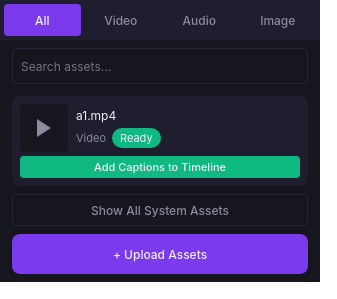
Test case: AssetBrowserPanel — scope toggle › clicking toggle switches label to "Show only project assets"
This screenshot has width=337, height=299.
Click the button with test id "scope-toggle" at (160, 210), box x1=12 y1=194 x2=308 y2=226
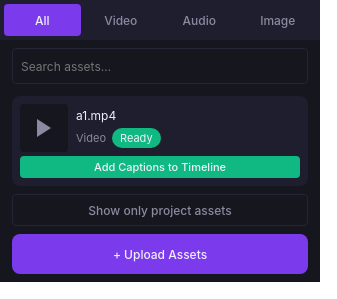
Check: the button with test id "scope-toggle" reads "Show only project assets", box x1=12 y1=194 x2=308 y2=226
